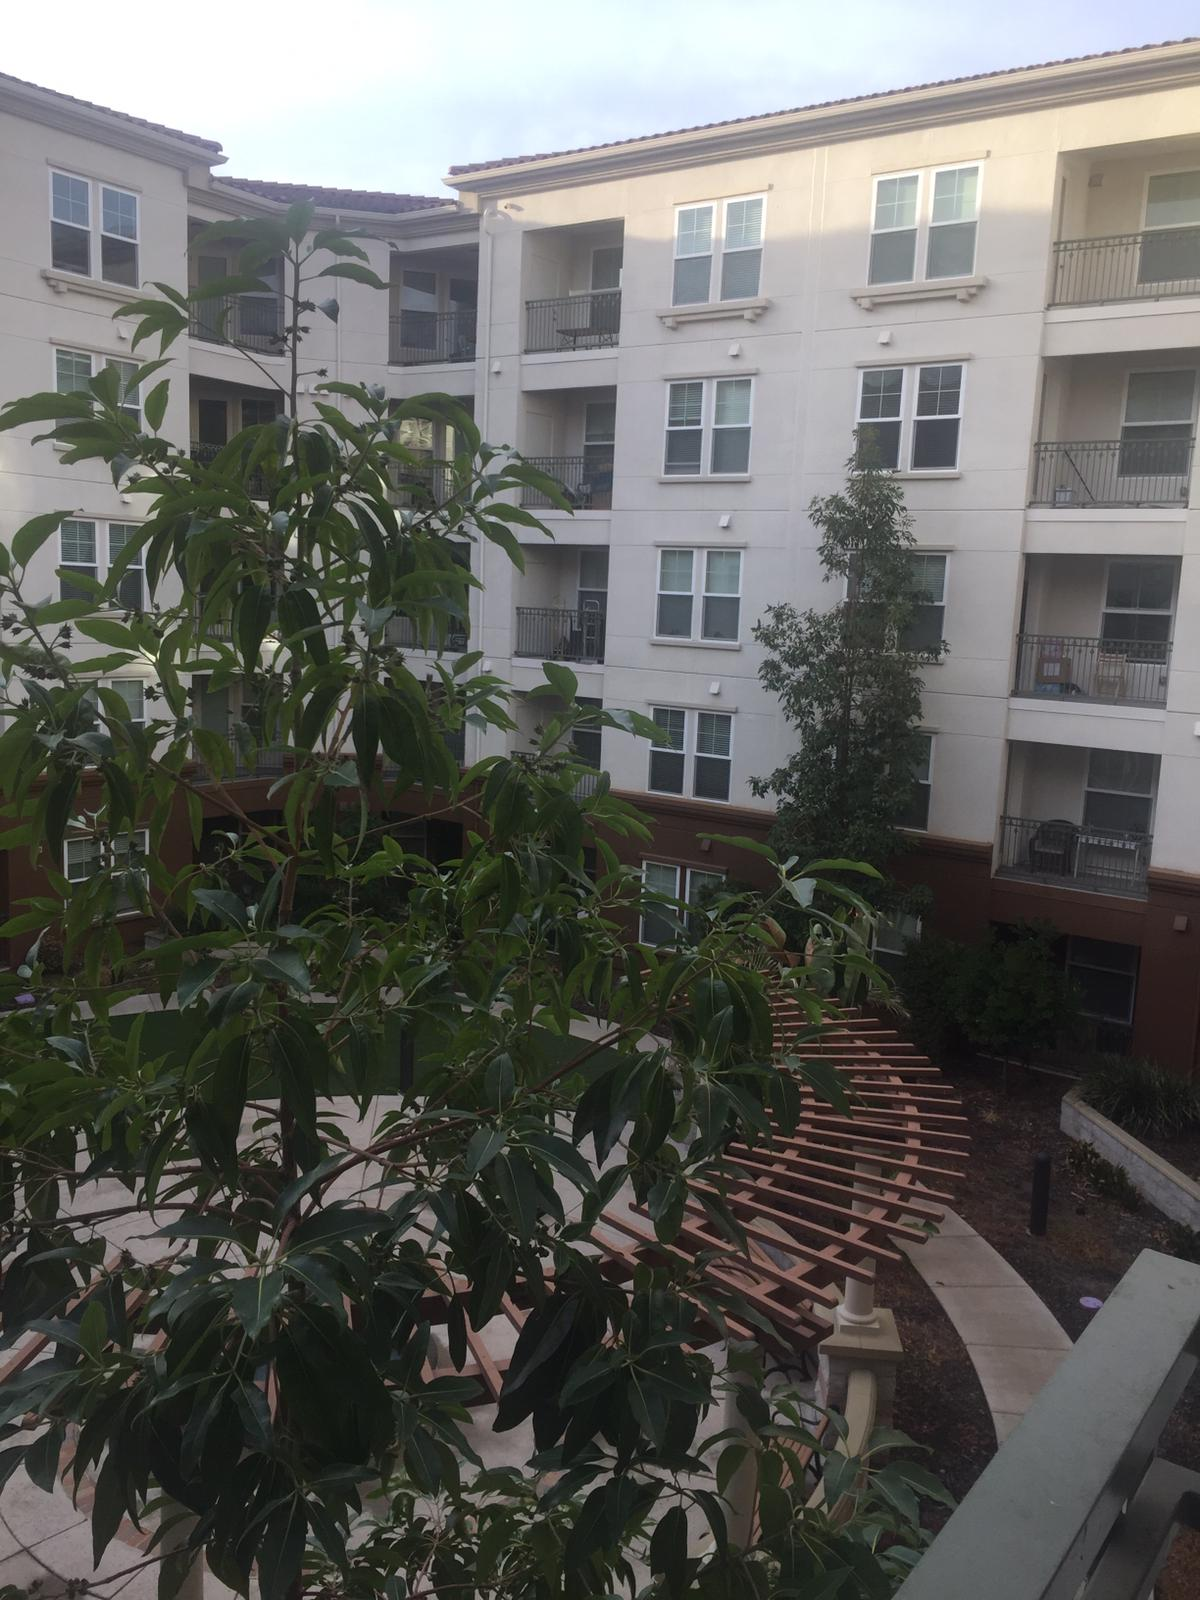plants: (3, 226, 760, 1597), (761, 460, 926, 944)
